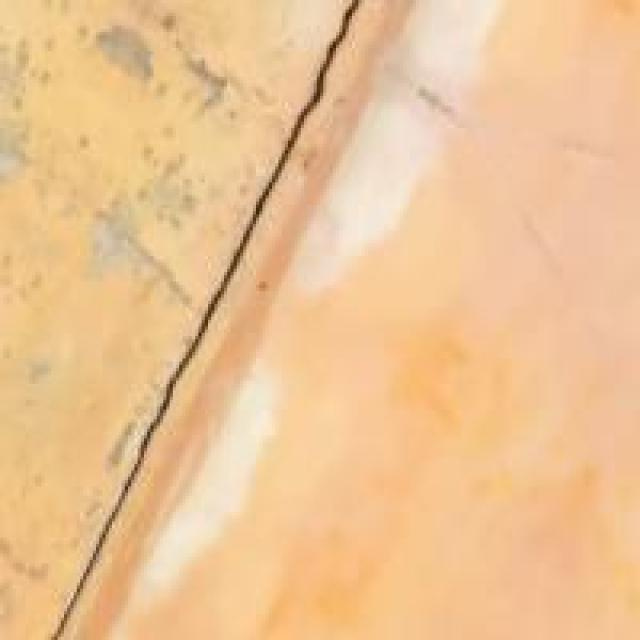Crack: (45, 0, 391, 637)
